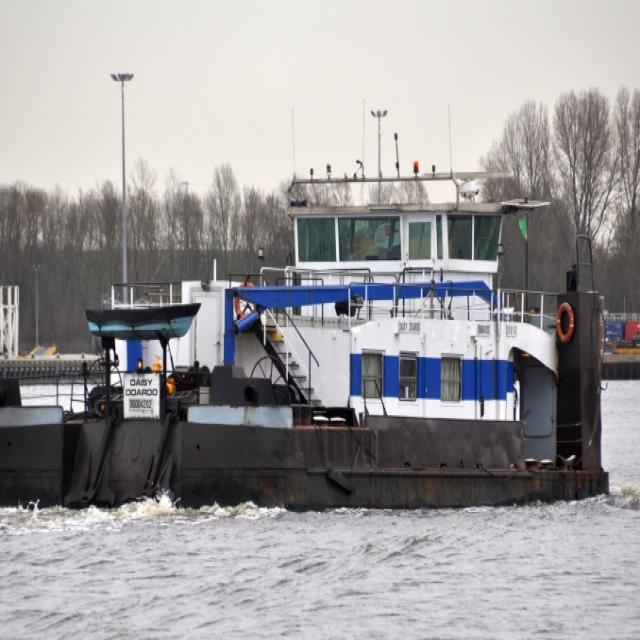tugboat: (1, 160, 616, 524)
